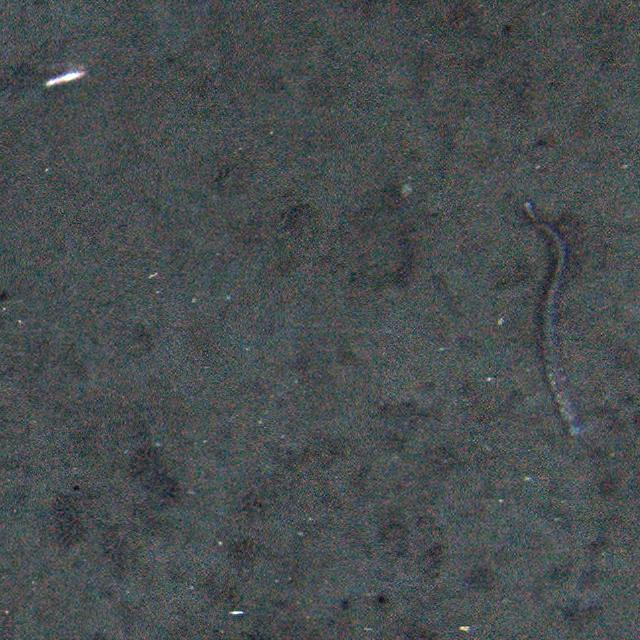roundfish: (522, 197, 582, 442)
